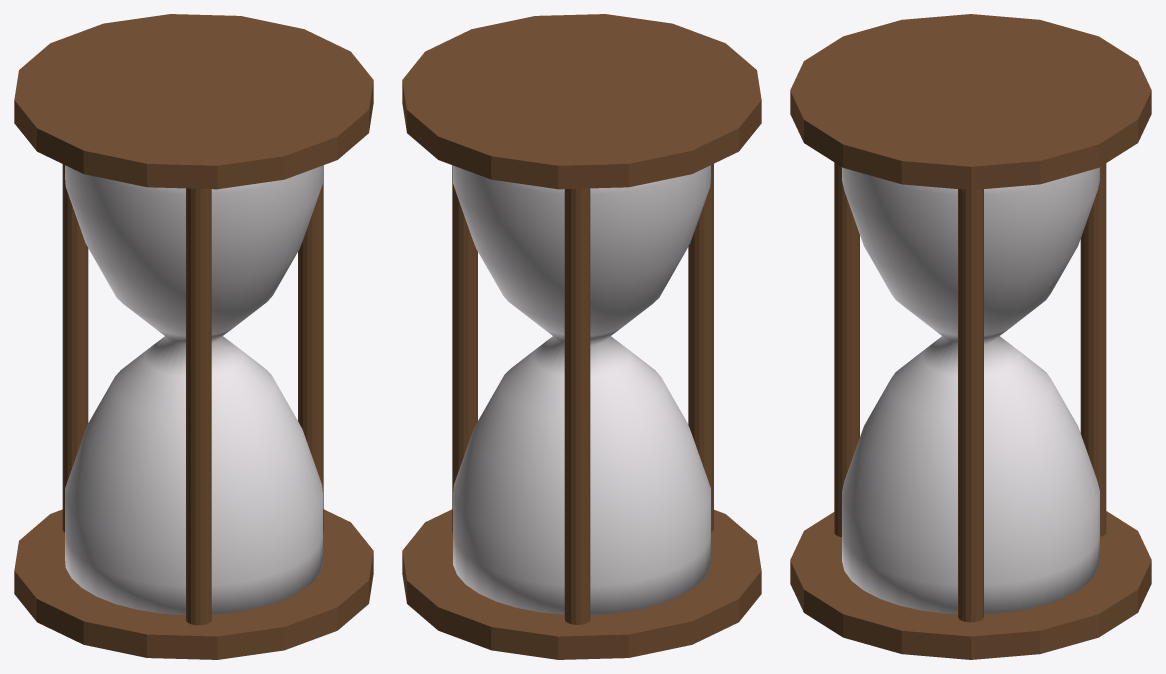
The model's file is hourglass.fbx.
3 views of the same model, side by side, from view 1: azimuth 30°, elevation 25°; view 2: azimuth 150°, elevation 25°; view 3: azimuth 270°, elevation 25° (orthographic).
Visible parts, largest first — view 1: Hourglass; view 2: Hourglass; view 3: Hourglass.
Part boxes in pixels (x1=…): Hourglass: x1=14, y1=14, x2=373, y2=659; Hourglass: x1=402, y1=14, x2=761, y2=659; Hourglass: x1=790, y1=14, x2=1151, y2=659.
Size of the model in its own units: 280 by 421 by 280.
